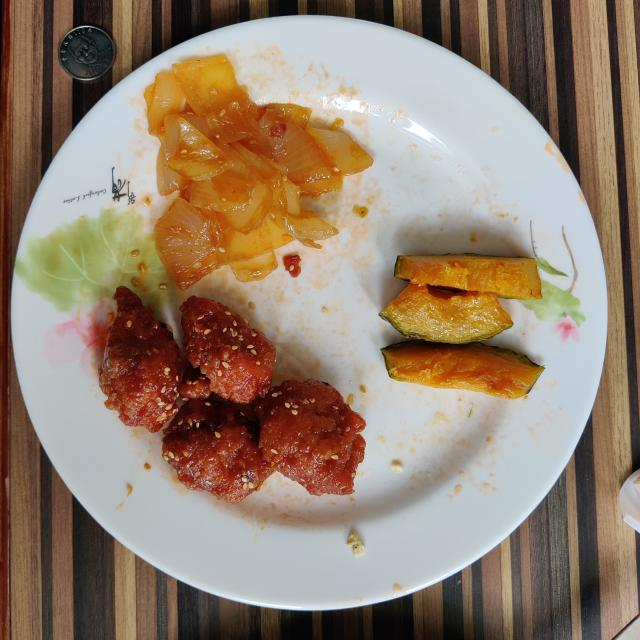coin: (59, 25, 115, 81)
pumpkin: (380, 254, 544, 399)
